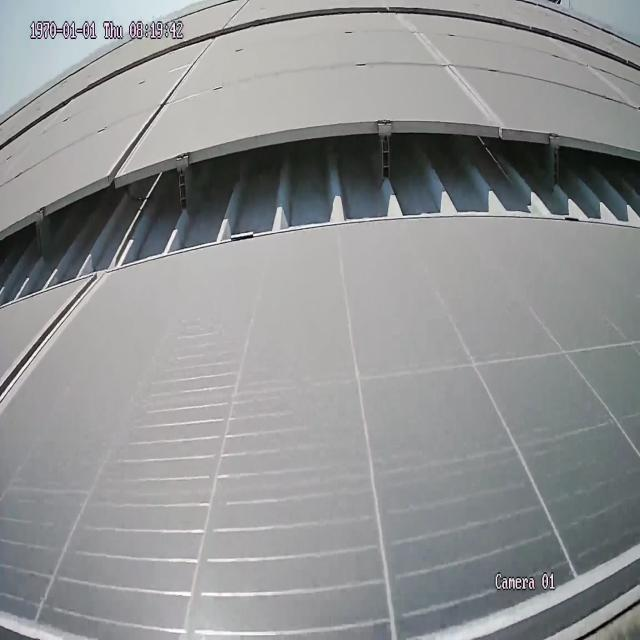interior panel: (445, 531, 640, 640), (107, 45, 213, 173), (2, 285, 105, 405), (399, 21, 497, 112)
outher panel: (2, 126, 640, 309)
